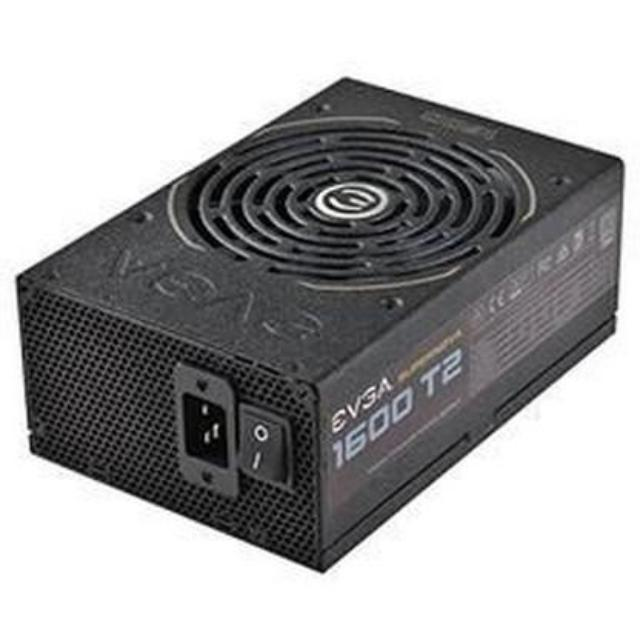PSU: (0, 64, 640, 582)
